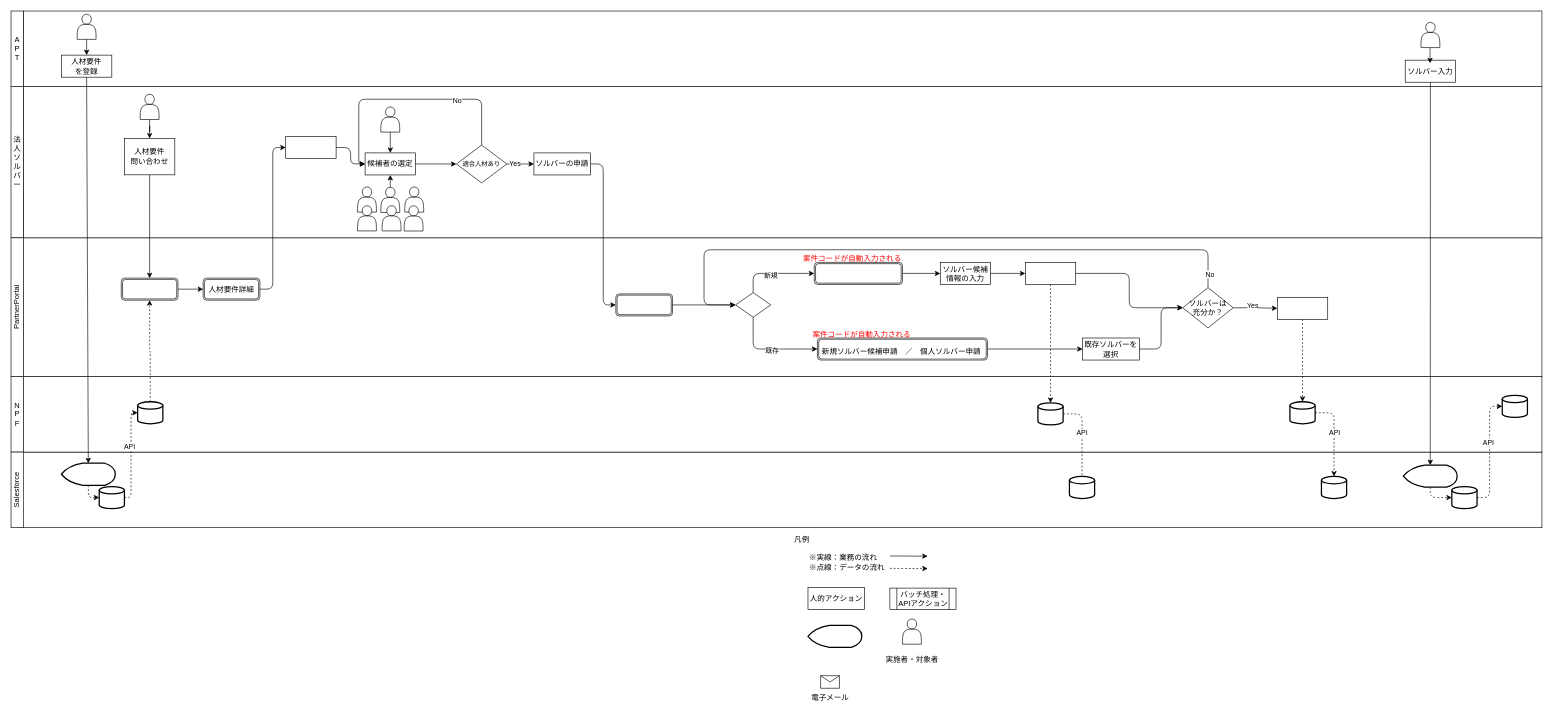
The diagram is 1553 pixels wide and 718 high, and some of its shapes have lost their labels. The box of each missing label's shape, as (x1, y1, x2, y2) in pixels:
GUIアクション: (807, 624, 862, 648)
人材要件一覧: (121, 278, 178, 300)
人材要件入力: (60, 462, 116, 486)
応募ソルバー: (615, 293, 673, 316)
応募ソルバー 入力: (1402, 464, 1458, 487)
応募ソルバー完了: (1277, 297, 1328, 319)
新規ソルバー候補申請: (814, 262, 902, 284)
登録: (1025, 262, 1076, 284)
要件参照: (285, 136, 336, 159)
